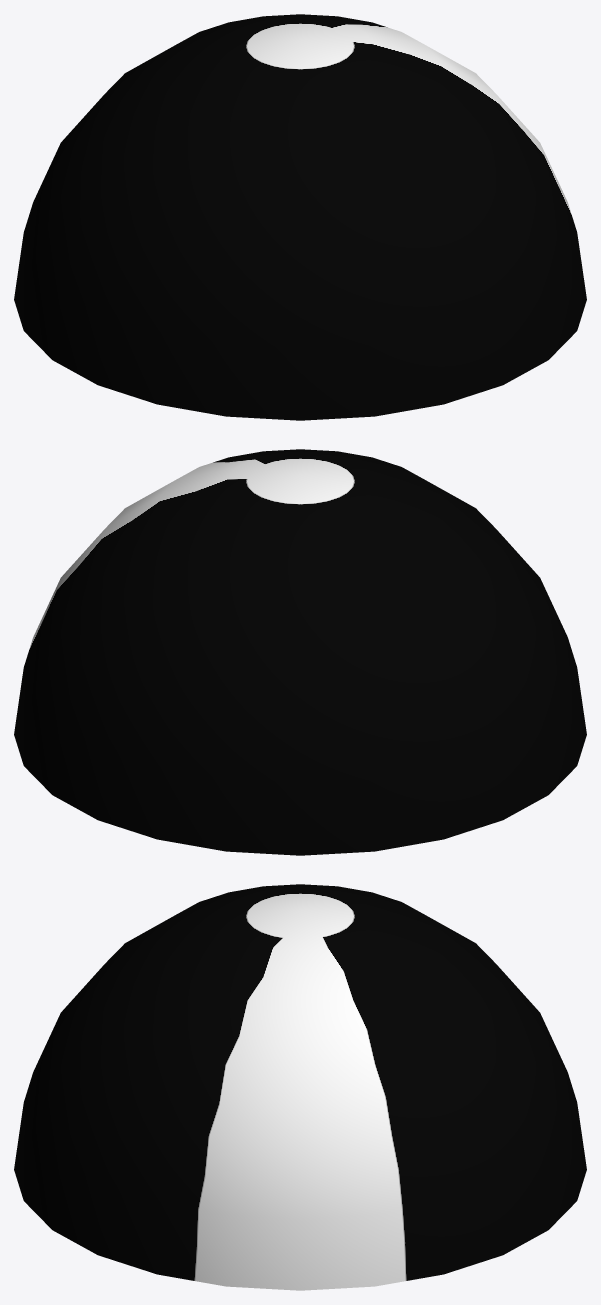
The model's file is sky.obj.
The picture shows the model from 3 angles, top to bottom: view 1: azimuth 30°, elevation 25°; view 2: azimuth 150°, elevation 25°; view 3: azimuth 270°, elevation 25°; orthographic projection.
Parts seen in each view (by area): view 1: 天空盒; view 2: 天空盒; view 3: 天空盒.
Part boxes in pixels (x1,y1,x2,y2): 天空盒: [14, 14, 586, 420]; 天空盒: [14, 449, 586, 855]; 天空盒: [14, 884, 586, 1290].
Size of the model in its own units: 2000 by 1000 by 2000.
1 material, 1 textured.
